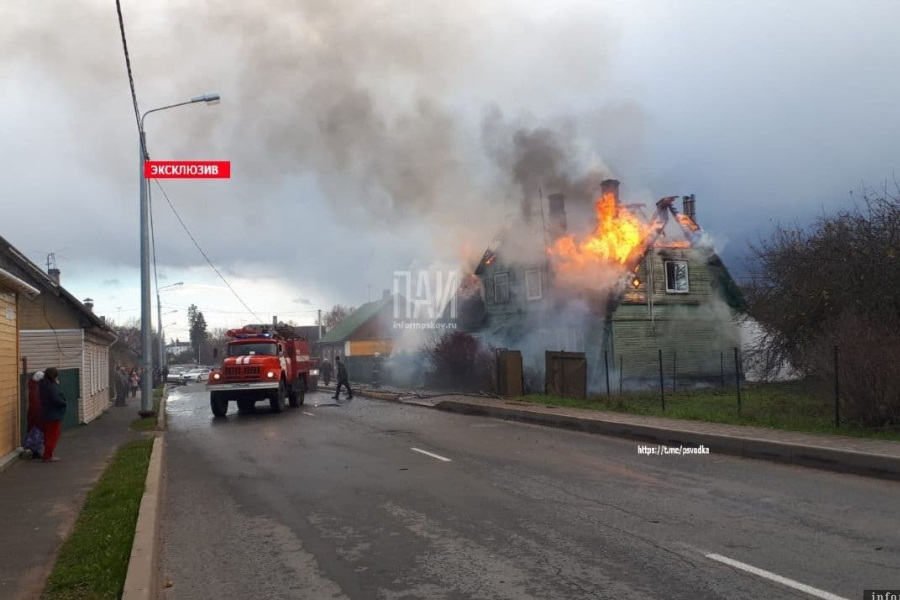fire: (237, 51, 654, 353)
